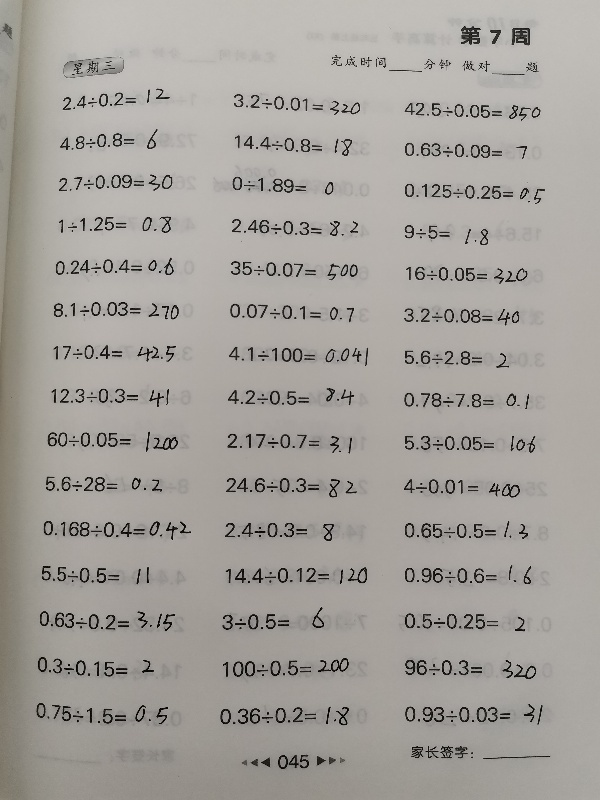equation: (52, 207, 181, 240), (401, 656, 543, 685), (44, 429, 185, 458), (39, 517, 194, 543), (39, 470, 175, 499), (35, 607, 178, 634), (401, 703, 548, 729), (226, 344, 373, 370), (32, 700, 171, 727), (222, 473, 360, 500), (400, 180, 548, 205), (216, 703, 353, 730), (400, 560, 534, 587), (46, 340, 180, 367), (401, 610, 530, 638), (223, 564, 372, 588), (219, 605, 337, 635), (401, 432, 541, 457), (400, 516, 531, 542), (218, 655, 352, 680), (227, 258, 361, 283), (228, 173, 347, 201), (49, 297, 182, 322), (223, 429, 355, 454), (401, 99, 544, 122), (397, 220, 505, 250), (37, 562, 161, 588), (401, 347, 525, 373), (228, 215, 361, 239), (225, 386, 363, 409), (222, 519, 344, 545), (52, 255, 178, 280), (230, 133, 356, 158), (47, 384, 172, 409), (399, 389, 533, 412), (230, 93, 364, 116), (33, 655, 160, 679), (57, 125, 162, 154), (225, 301, 357, 324), (55, 170, 176, 195), (400, 139, 530, 162), (402, 263, 531, 286), (400, 476, 523, 499), (400, 305, 523, 328), (59, 88, 173, 110)
